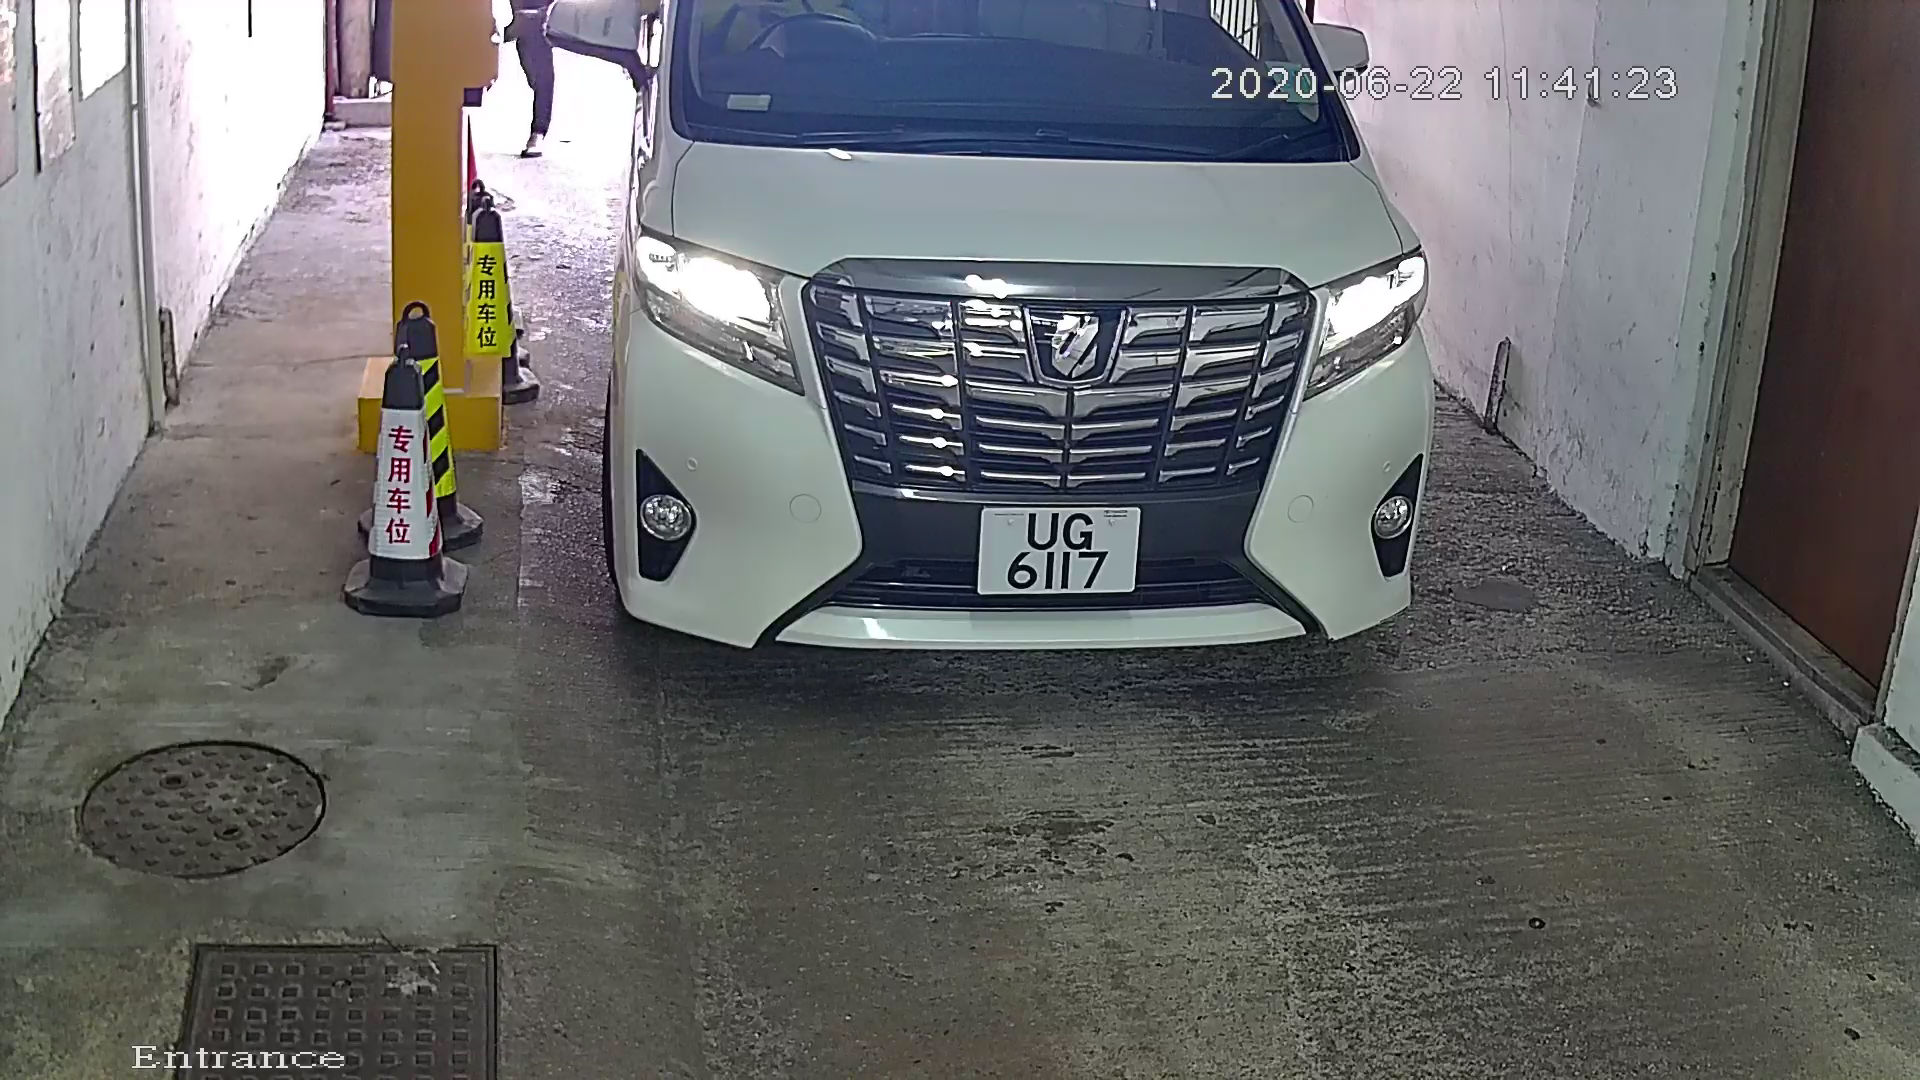privatecar: (576, 1, 1520, 796)
